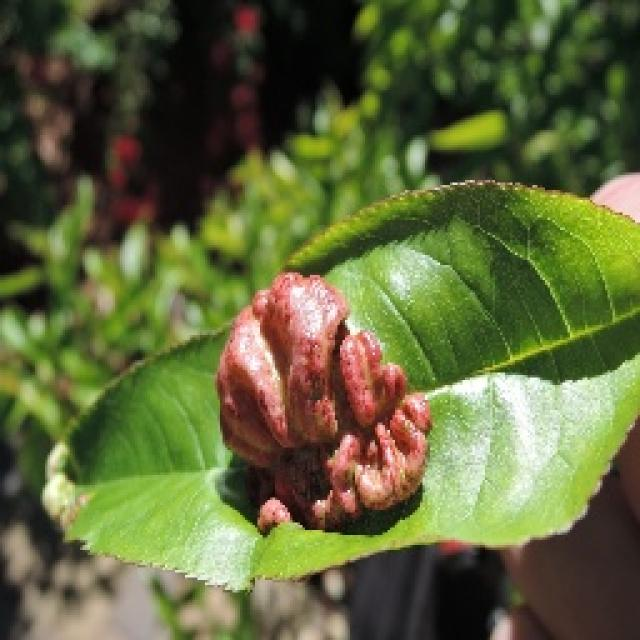Black_knot: (212, 268, 432, 532)
peach_leaf_curl: (42, 172, 638, 592)
